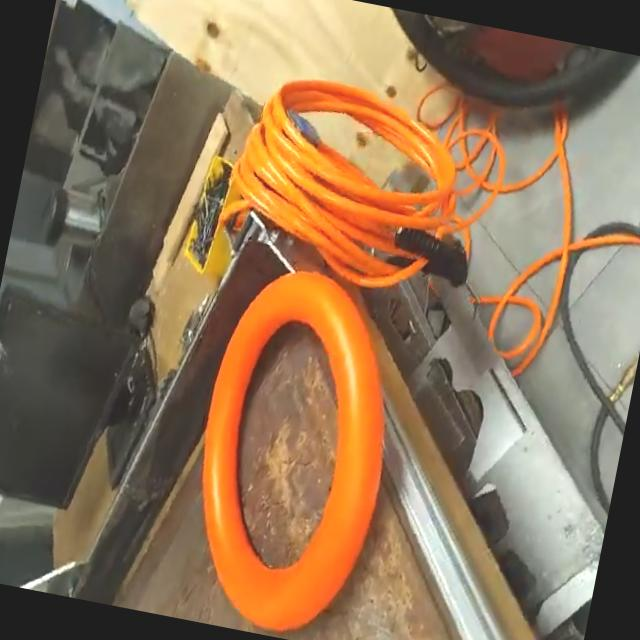note: (166, 256, 419, 640)
